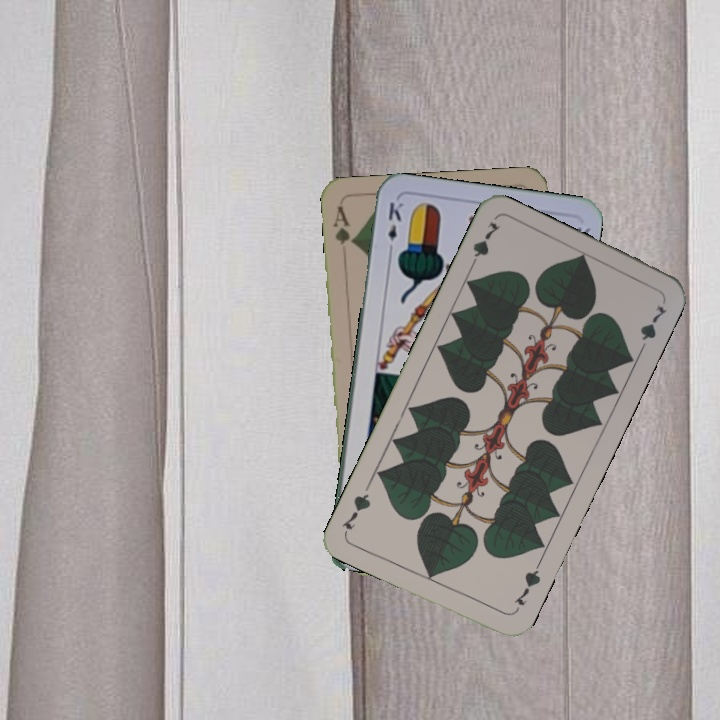EK: (384, 198, 406, 257)
G7: (465, 217, 503, 273), (511, 560, 544, 608)
GA: (329, 202, 357, 247)
